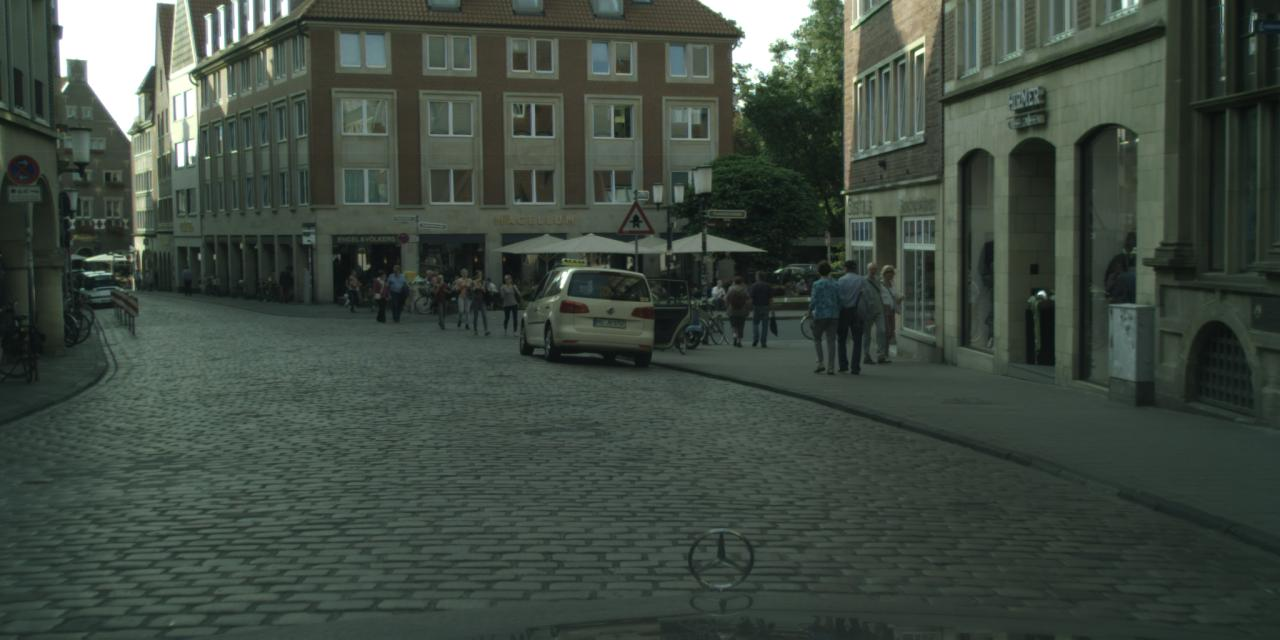ped: (826, 258, 872, 370), (801, 260, 847, 372), (853, 261, 893, 361), (866, 264, 905, 359), (744, 270, 774, 345), (723, 276, 751, 344), (467, 269, 492, 334), (496, 274, 520, 333), (384, 264, 408, 322), (452, 268, 474, 327), (430, 274, 451, 327), (370, 270, 391, 322), (344, 268, 361, 310), (278, 264, 294, 302), (181, 265, 193, 295), (426, 270, 438, 300), (152, 266, 162, 290), (145, 269, 153, 290), (133, 269, 141, 289)
